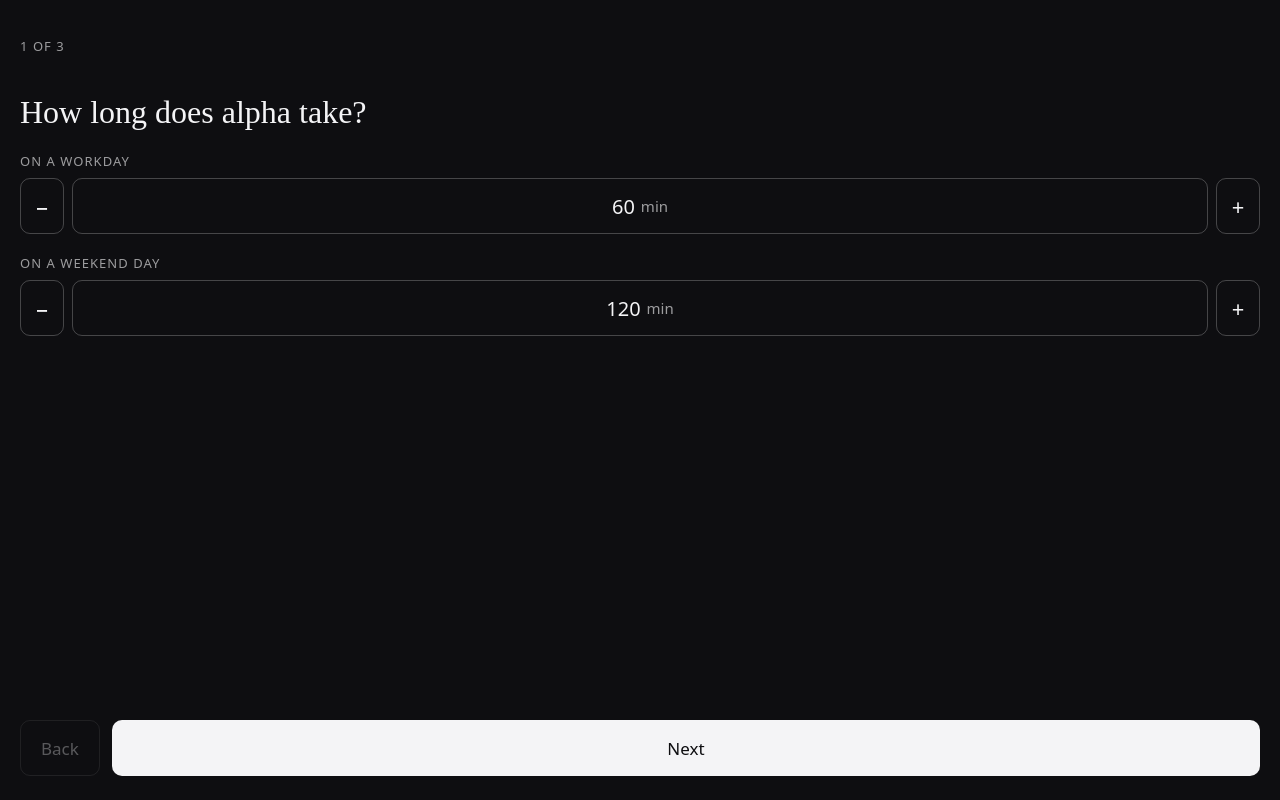
it: S1 screen renderer (§4.2) › captures two day-scoped fields on one screen independently (AC 2)
// Defaults are 60 min on a workday and 120 on a weekend day.
Click the button named "Increase": (1238, 206) [1216,178,1260,234]
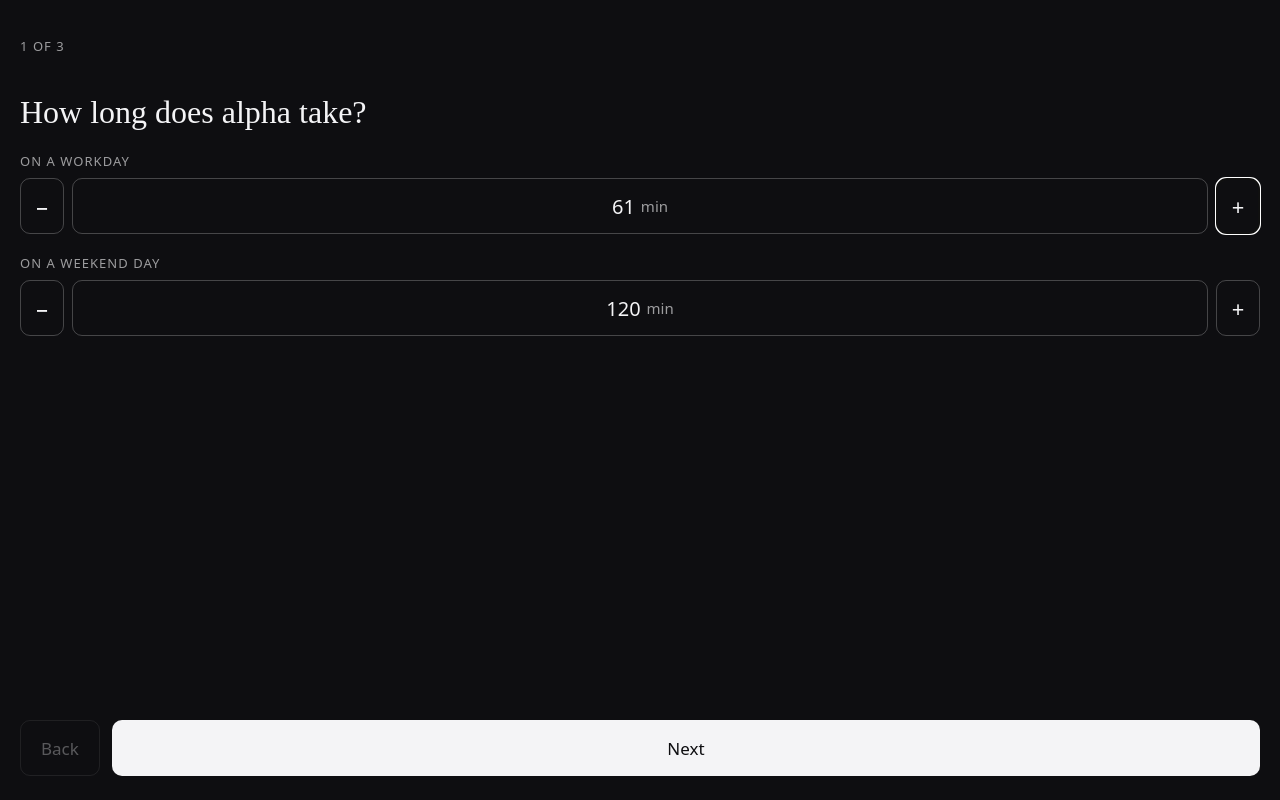
Expected: the element showing "120 min" is shown, [72,280,1208,336]
Result: the element showing "61 min" is shown at [72,178,1208,234]
